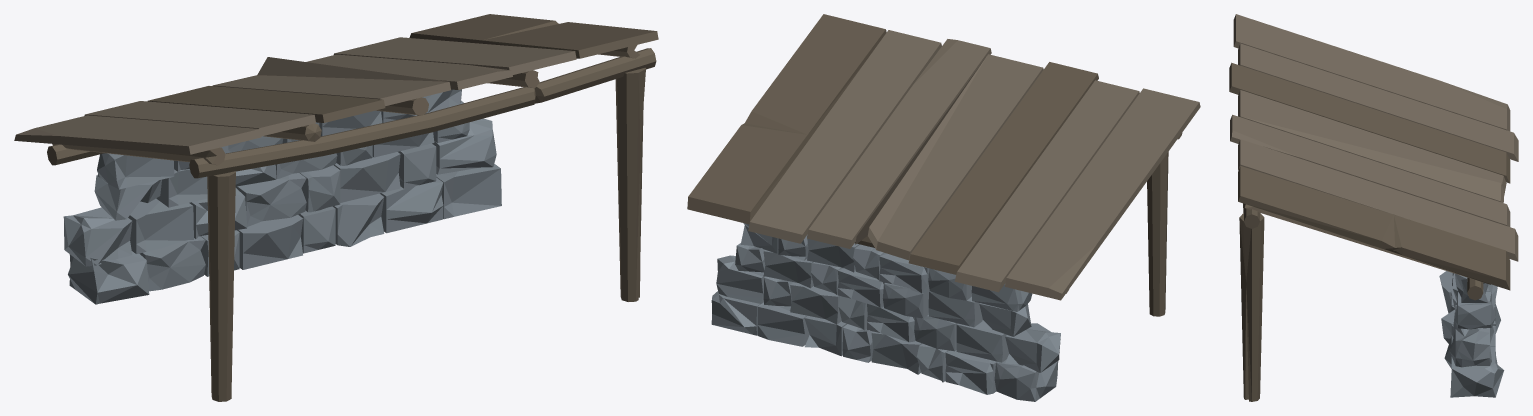
Rendered from Shed.glb.
The picture shows the model from 3 angles, left to right: view 1: azimuth 30°, elevation 25°; view 2: azimuth 150°, elevation 25°; view 3: azimuth 270°, elevation 25°; orthographic projection. The views are drawn at different scales.
Parts seen in each view (by area): view 1: SHED; view 2: SHED; view 3: SHED.
Part boxes in pixels (<box>): SHED: <box>14,14,658,401</box>; SHED: <box>687,14,1200,401</box>; SHED: <box>1229,14,1518,401</box>.
Size of the model in its own units: 5.29 by 2.9 by 3.58.
1 material, 1 textured.
